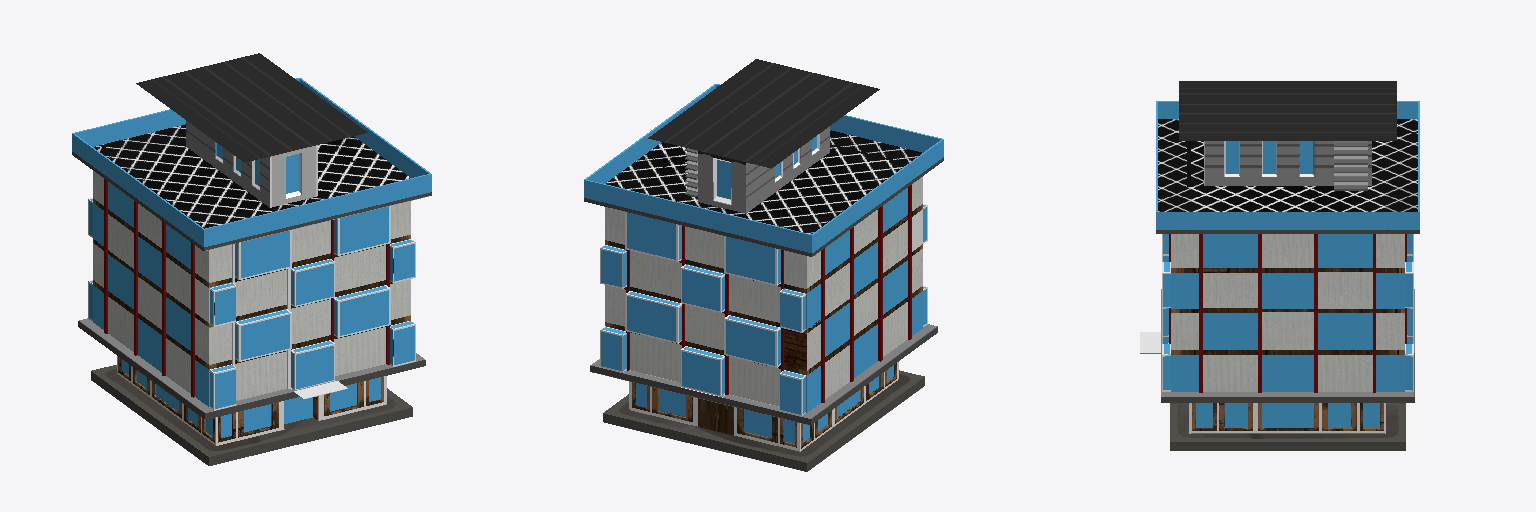
The picture shows the model from 3 angles: view 1: azimuth 30°, elevation 25°; view 2: azimuth 150°, elevation 25°; view 3: azimuth 270°, elevation 25°; orthographic projection.
Visible parts, largest first — view 1: Main_B_Cube.011, Windows_Cube.001, Cube.006, Balcony_Cube.009, White_boxes_Cube.012; view 2: Main_B_Cube.011, Windows_Cube.001, Cube.006, Balcony_Cube.009, White_boxes_Cube.012; view 3: Main_B_Cube.011, Cube.006, Windows_Cube.001, Balcony_Cube.009, White_boxes_Cube.012, Cube.007, Cube.008.
Part boxes in pixels (bbox=[...]): Main_B_Cube.011: bbox=[72, 124, 431, 465]; Windows_Cube.001: bbox=[89, 182, 414, 408]; Cube.006: bbox=[136, 53, 367, 207]; Balcony_Cube.009: bbox=[72, 78, 431, 246]; White_boxes_Cube.012: bbox=[88, 179, 415, 410]; Main_B_Cube.011: bbox=[584, 130, 943, 471]; Windows_Cube.001: bbox=[601, 188, 926, 414]; Cube.006: bbox=[648, 59, 879, 213]; Balcony_Cube.009: bbox=[584, 84, 943, 252]; White_boxes_Cube.012: bbox=[600, 185, 927, 416]; Main_B_Cube.011: bbox=[1140, 119, 1419, 450]; Cube.006: bbox=[1179, 81, 1396, 185]; Windows_Cube.001: bbox=[1163, 234, 1412, 391]; Balcony_Cube.009: bbox=[1156, 101, 1419, 229]; White_boxes_Cube.012: bbox=[1162, 234, 1413, 392]; Cube.007: bbox=[1334, 143, 1367, 190]; Cube.008: bbox=[1334, 141, 1367, 185].
Size of the model in its own units: 7.36 by 8.94 by 7.81.
2 materials, 1 textured.